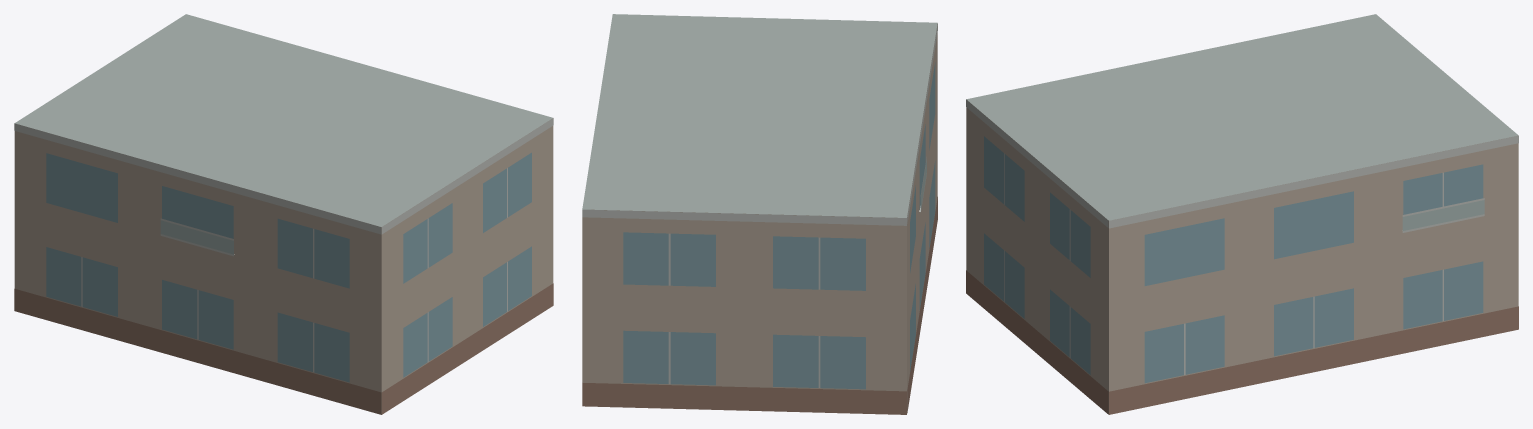
The model's file is survey-upis-33045932.glb.
The picture shows the model from 3 angles, left to right: view 1: azimuth 30°, elevation 25°; view 2: azimuth 150°, elevation 25°; view 3: azimuth 270°, elevation 25°; orthographic projection. The views are drawn at different scales.
Visible parts, largest first — view 1: survey-upis-33045932.tmp; view 2: survey-upis-33045932.tmp; view 3: survey-upis-33045932.tmp.
Part boxes in pixels (x1=…): survey-upis-33045932.tmp: x1=14, y1=14, x2=553, y2=414; survey-upis-33045932.tmp: x1=582, y1=14, x2=937, y2=414; survey-upis-33045932.tmp: x1=966, y1=14, x2=1518, y2=414.
Bounding box in the file's own units: 13.95 × 6.1 × 15.75.
